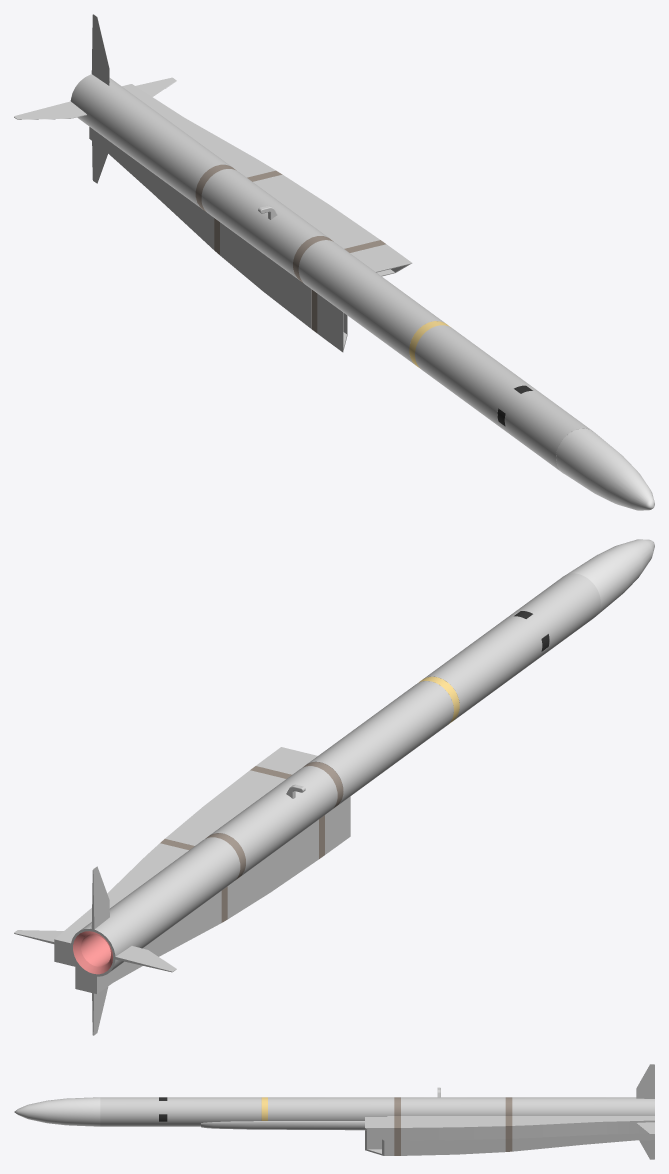
Rendered from meteor2.fbx.
3 views of the same model, one above another, from view 1: azimuth 30°, elevation 25°; view 2: azimuth 150°, elevation 25°; view 3: azimuth 270°, elevation 25° (orthographic). The views are drawn at different scales.
Visible parts, largest first — view 1: Body17; view 2: Body17; view 3: Body17.
Part boxes in pixels (x1,y1,x2,y2): Body17: (14,14,654,510); Body17: (14,539,654,1035); Body17: (14,1064,654,1159).
Bounding box in the file's own units: 63.25 × 63.25 × 386.
